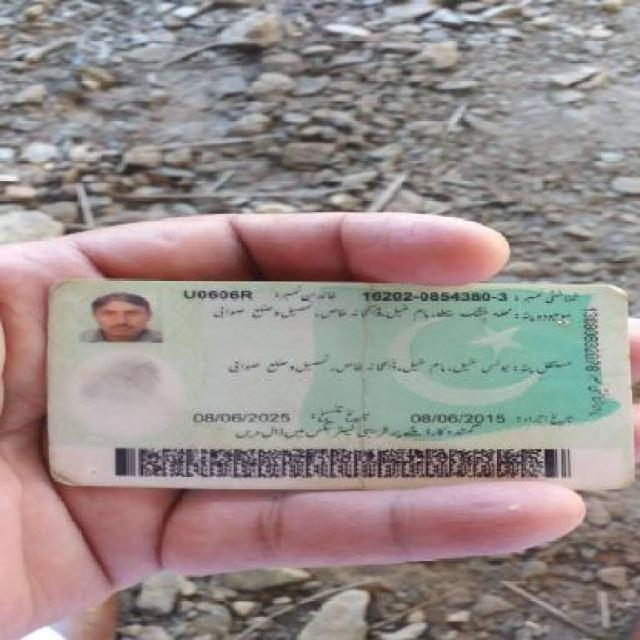Back: (26, 269, 629, 489)
